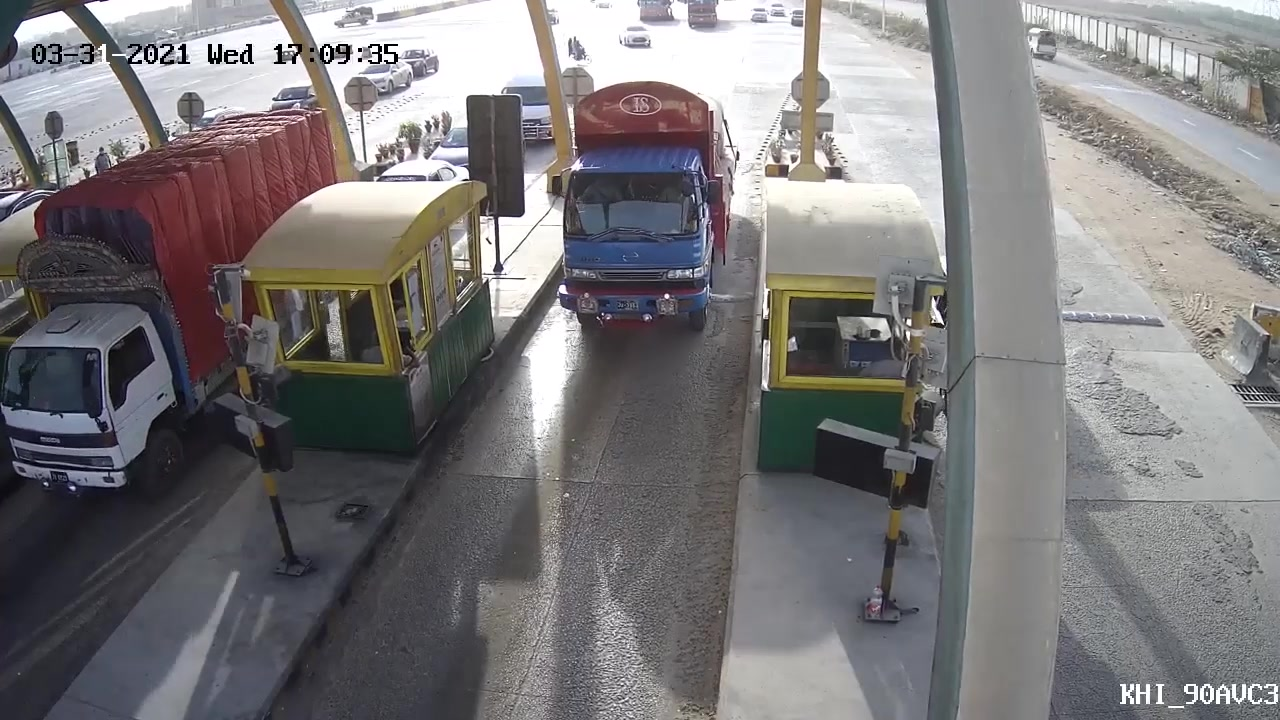F5: (537, 83, 735, 342)
